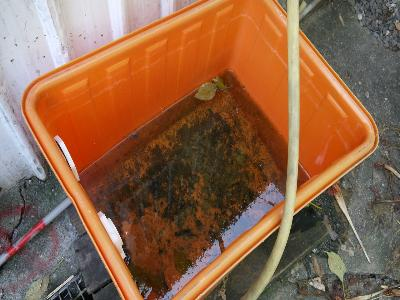box: (21, 1, 380, 300)
